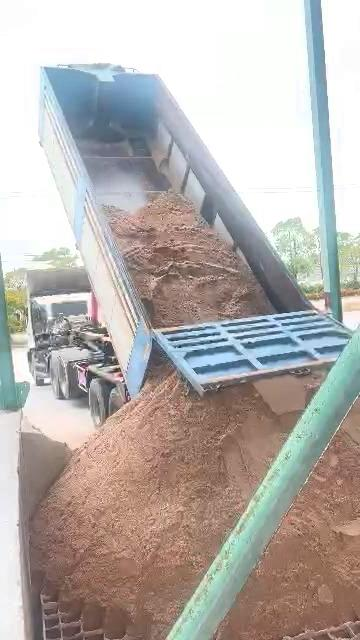sand: (33, 364, 298, 639), (219, 432, 360, 639), (105, 194, 273, 327), (19, 418, 72, 521)
